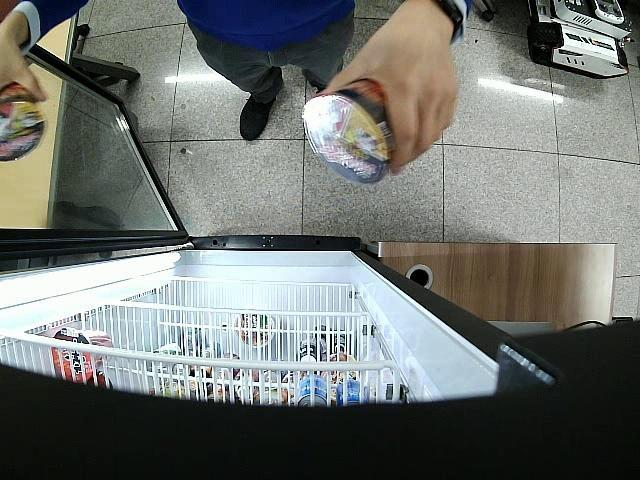08_buldak_S: (303, 78, 396, 183), (0, 83, 46, 162)
